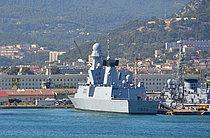MIL_Ship: (66, 42, 161, 116)
